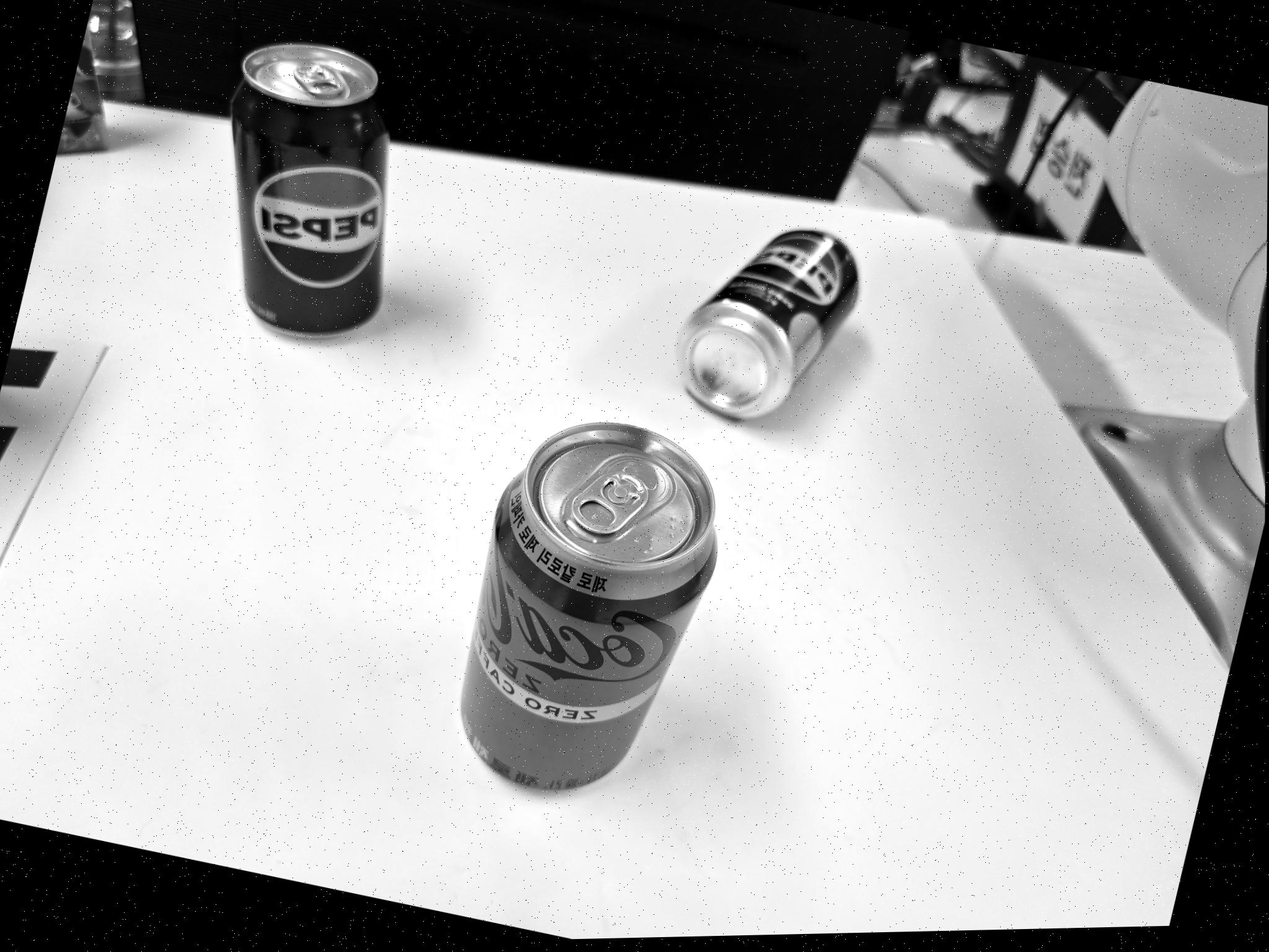can_coke_decaf: (459, 425, 720, 797)
can_pepsi: (229, 40, 386, 334)
can_pepsi_zero: (677, 226, 860, 419)
